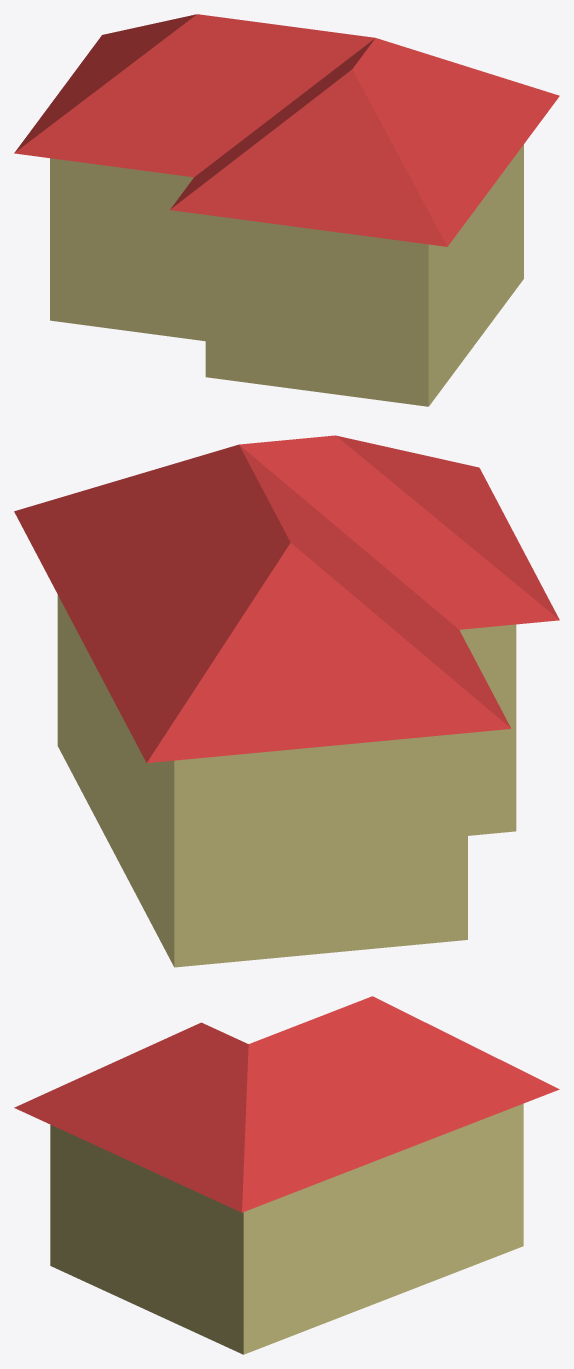
3 renders of one model, top to bottom at view 1: azimuth 30°, elevation 25°; view 2: azimuth 150°, elevation 25°; view 3: azimuth 270°, elevation 25°, orthographic. The views are drawn at different scales.
Size of the model in its own units: 18.84 by 21.14 by 10.54.
